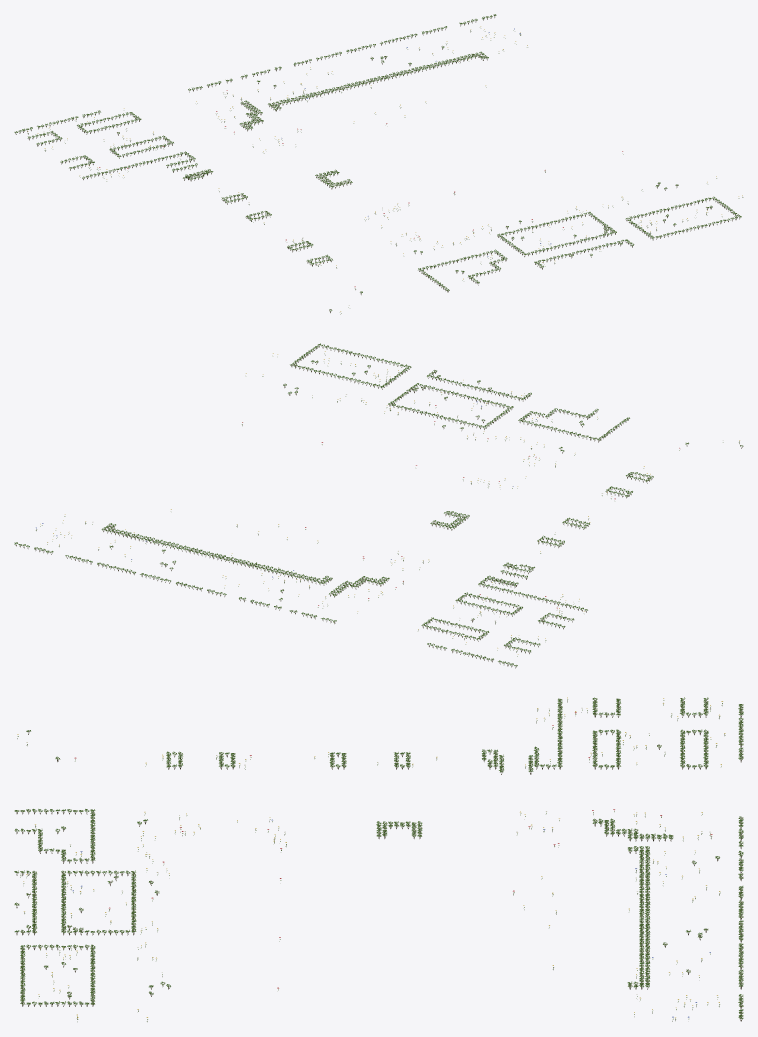
3 renders of one model, top to bottom at view 1: azimuth 30°, elevation 25°; view 2: azimuth 150°, elevation 25°; view 3: azimuth 270°, elevation 25°, orthographic. The views are drawn at different scales.
Parts seen in each view (by area): view 1: GROUND_FLORA_s_-5_4; view 2: GROUND_FLORA_s_-5_4; view 3: GROUND_FLORA_s_-5_4.
Boxes of the visible parts, x1=… form: GROUND_FLORA_s_-5_4: x1=14, y1=14, x2=743, y2=314; GROUND_FLORA_s_-5_4: x1=14, y1=343, x2=743, y2=668; GROUND_FLORA_s_-5_4: x1=14, y1=697, x2=743, y2=1021.
Size of the model in its own units: 128 by 1.97 by 125.
